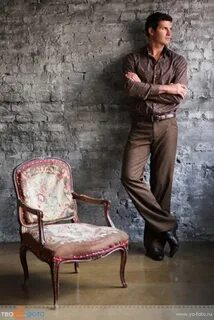awake: (120, 12, 190, 266)
